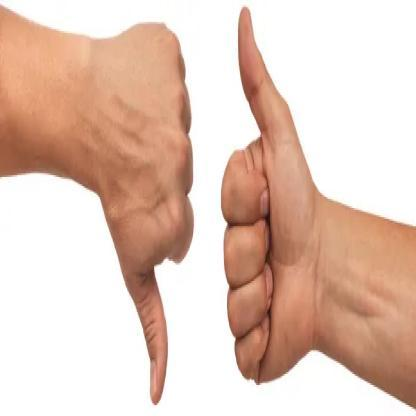thumb_down: (105, 12, 195, 410)
thumb_up: (217, 5, 320, 386)
